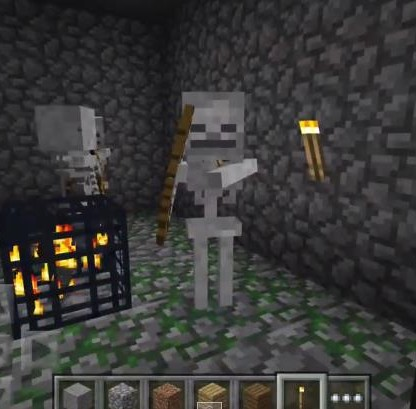skeleton: (168, 85, 254, 215)
